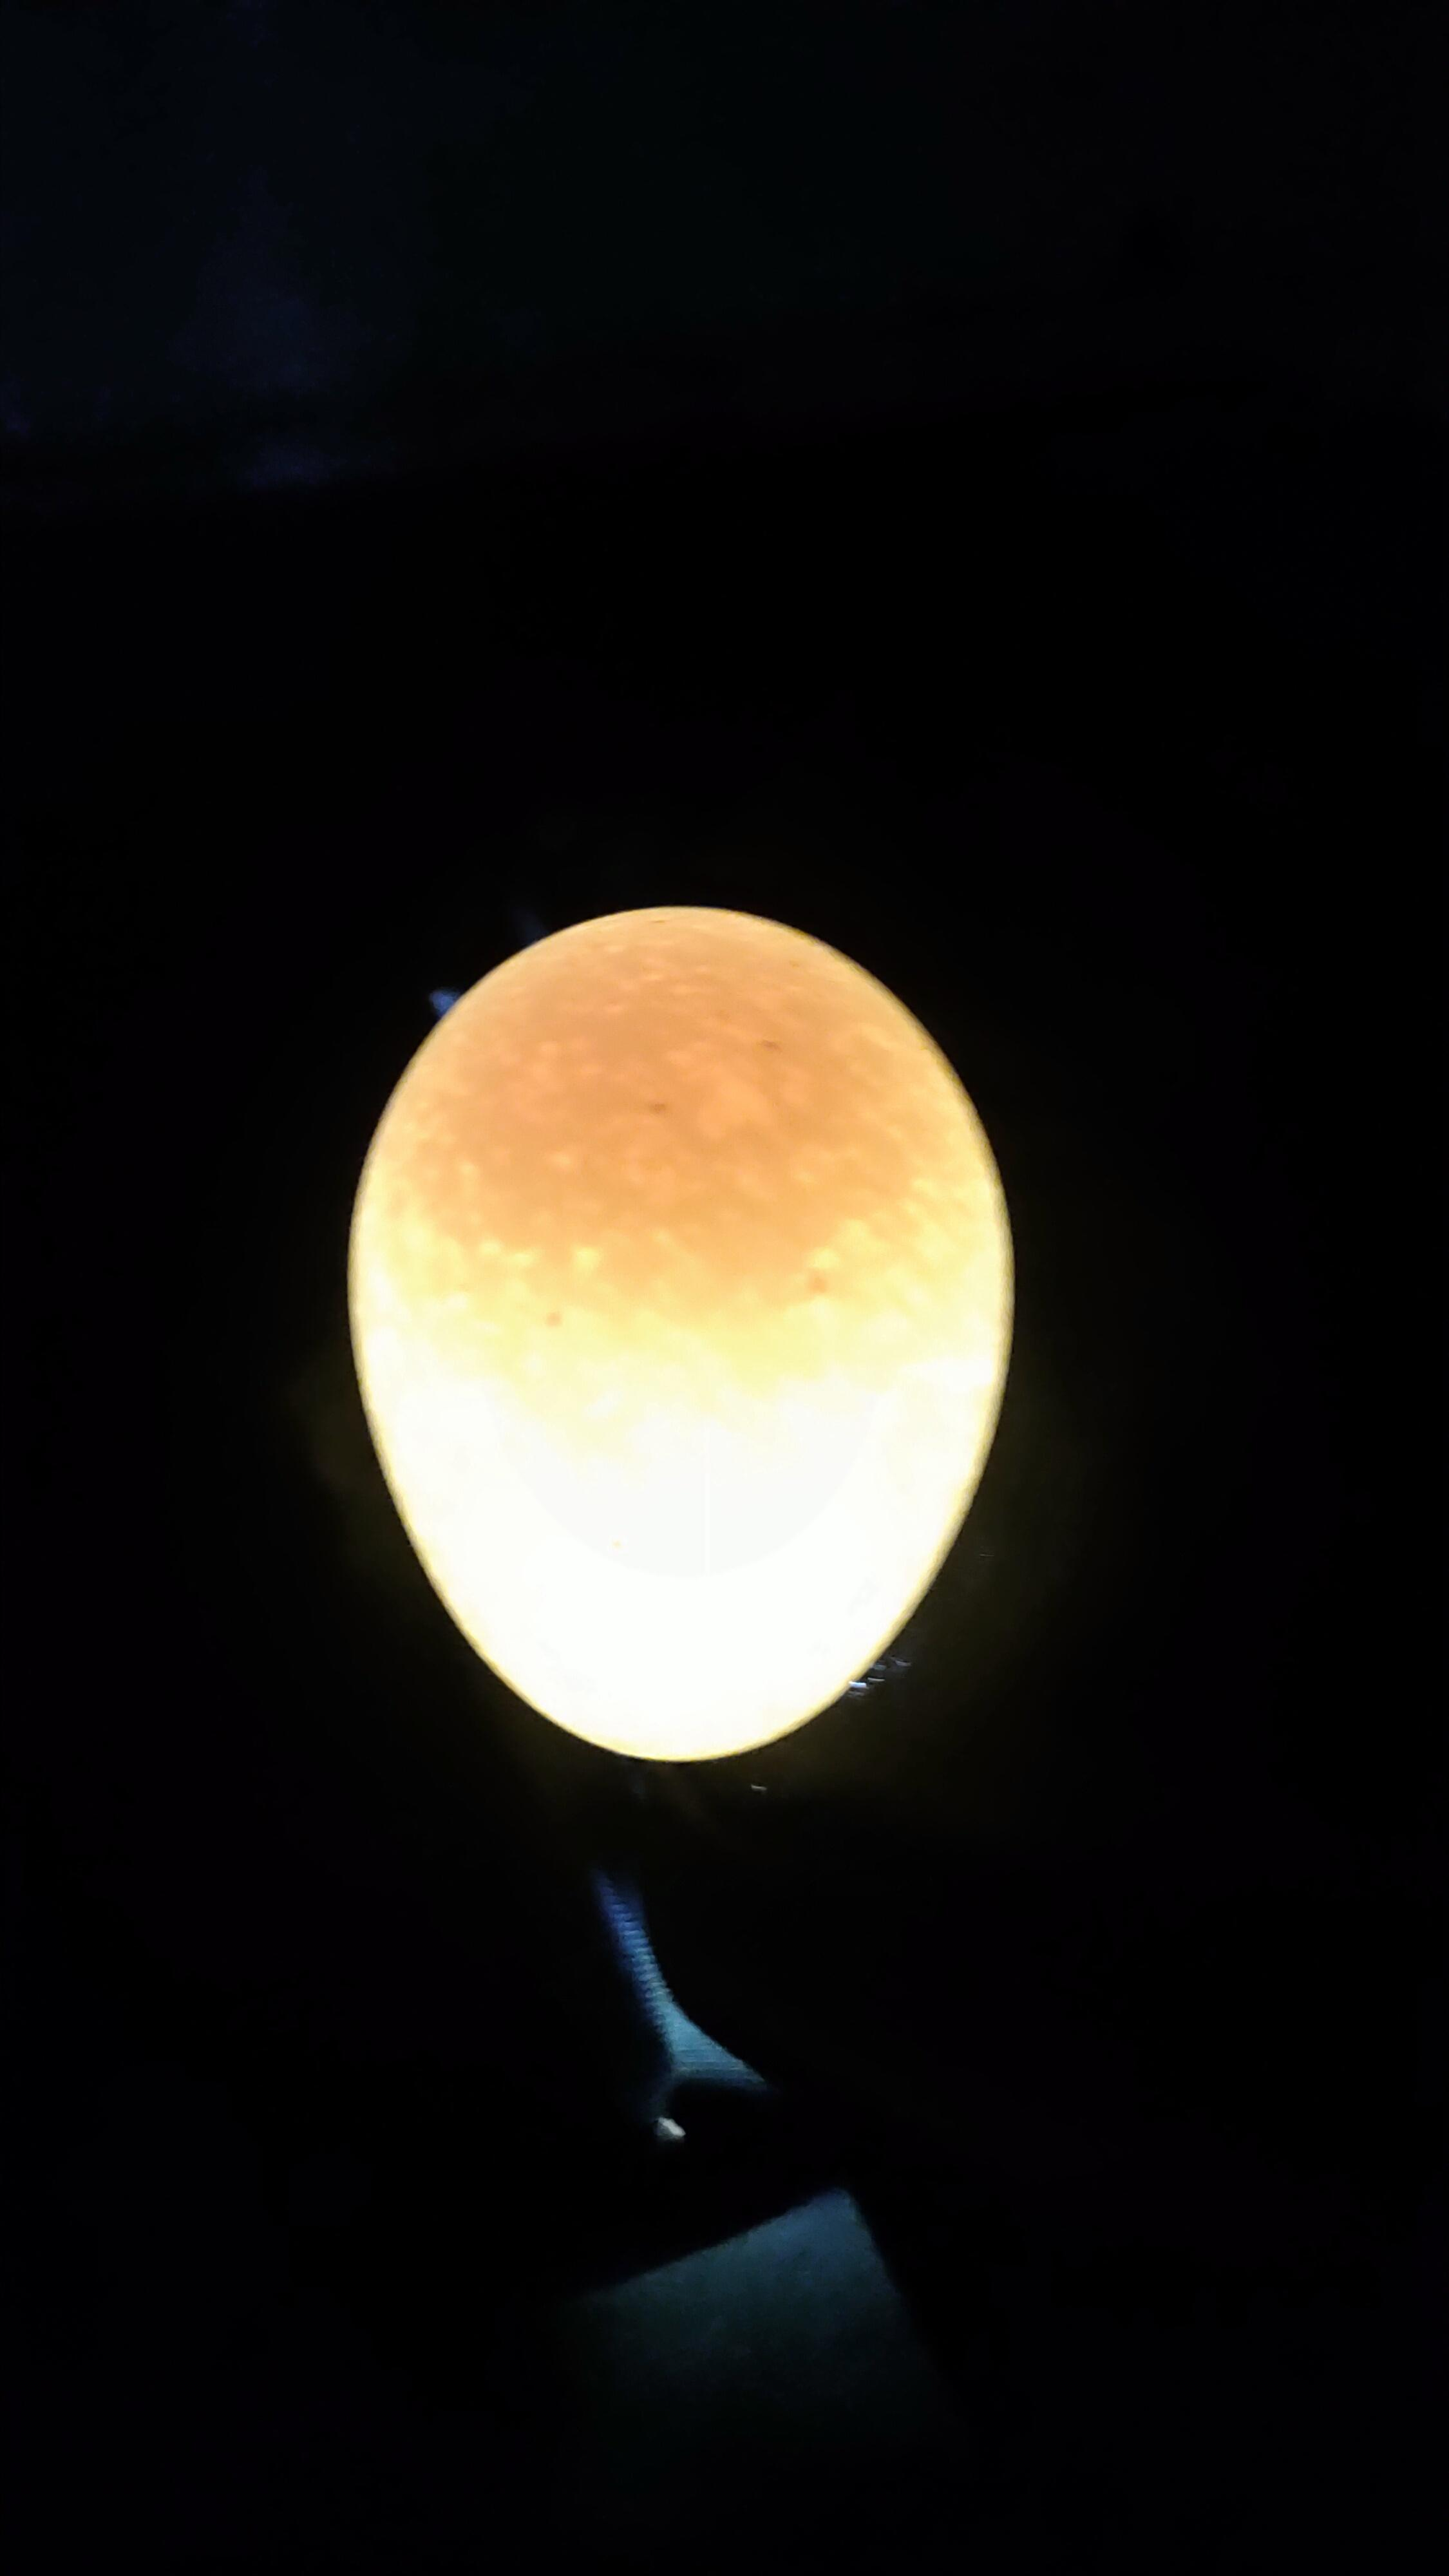Inedible: (290, 863, 1100, 1854)
